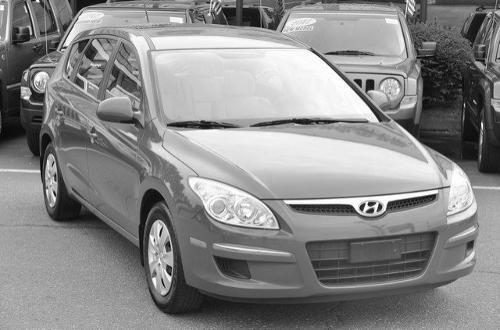car: (33, 17, 481, 316)
